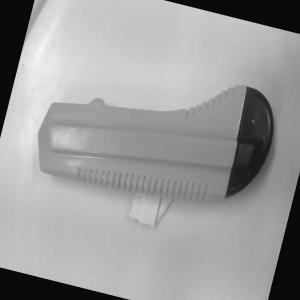estilete: (19, 36, 284, 250)
